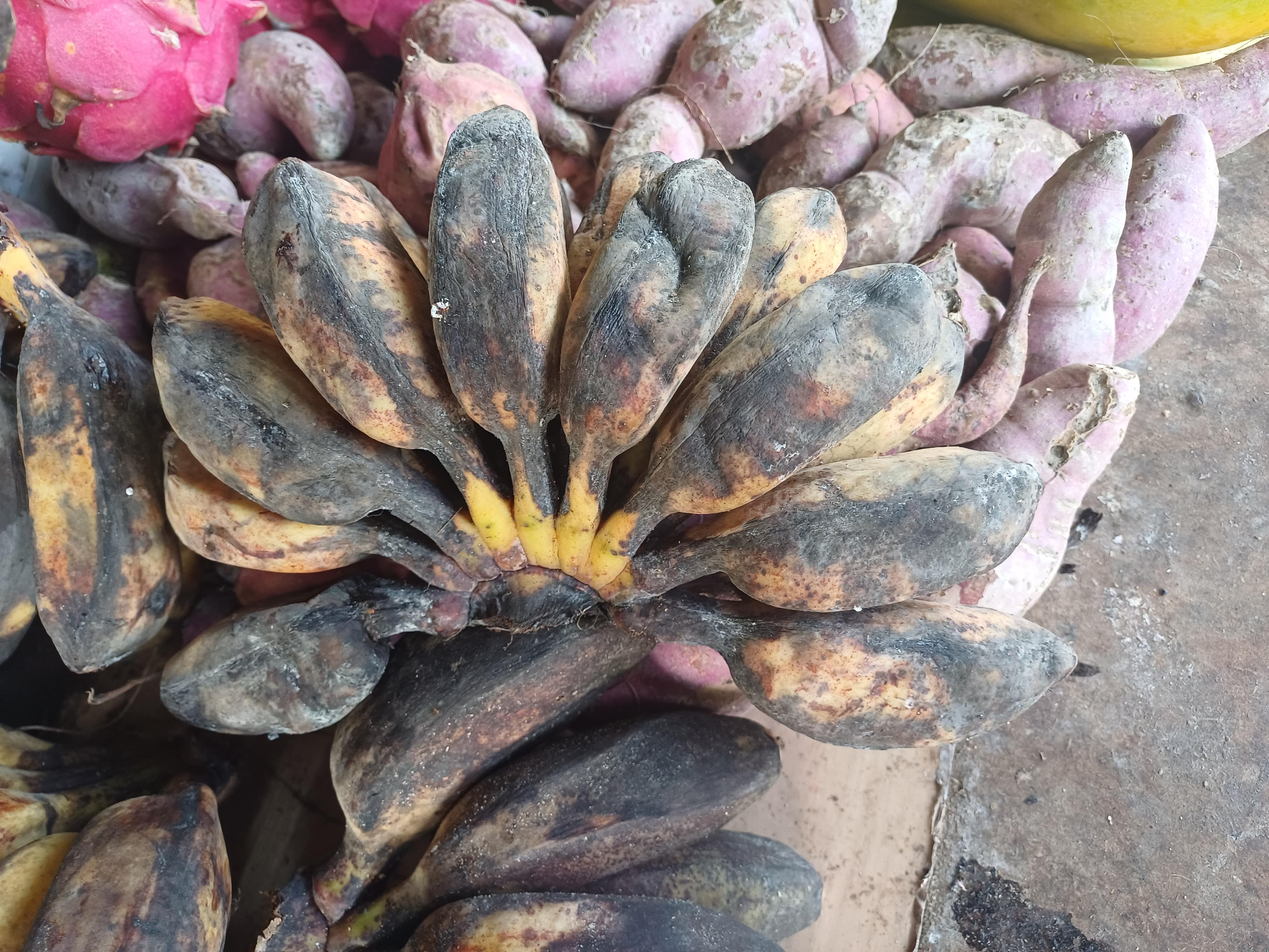overripe: (150, 106, 1073, 750), (330, 607, 822, 952), (0, 305, 181, 672)
